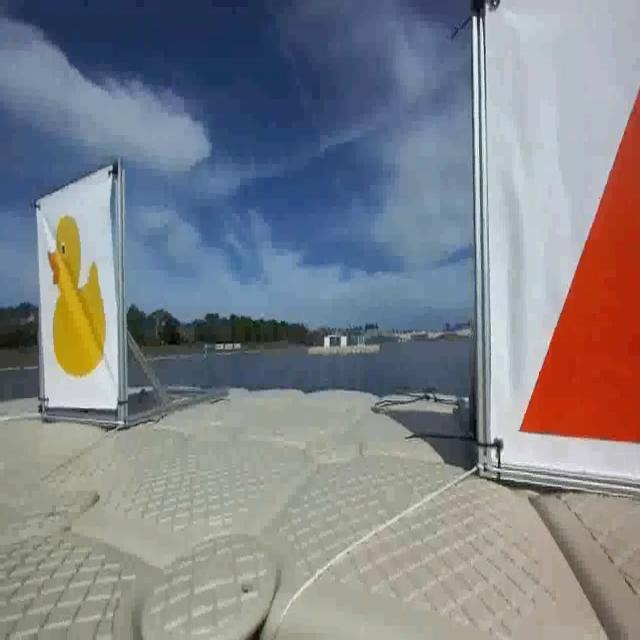red-dot: (483, 4, 640, 478)
yellow-duck: (45, 210, 107, 378)
